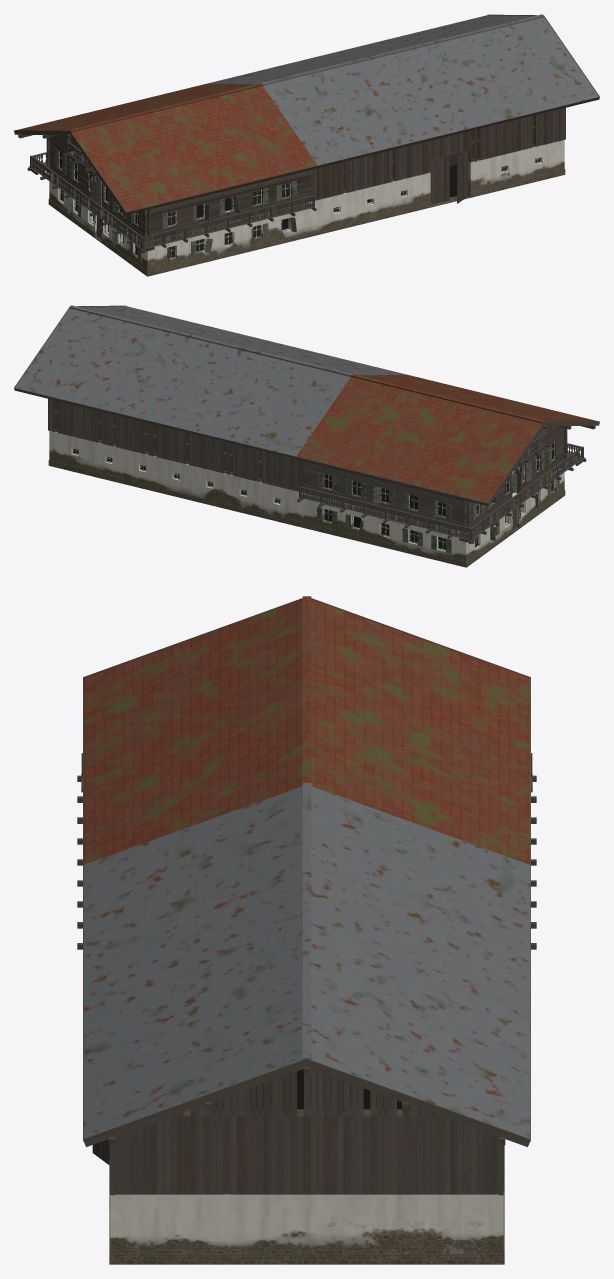
The model's file is hof-708.glb.
3 views of the same model, one above another, from view 1: azimuth 30°, elevation 25°; view 2: azimuth 150°, elevation 25°; view 3: azimuth 270°, elevation 25° (orthographic). The views are drawn at different scales.
Parts seen in each view (by area): view 1: blech, ziegel, holz_brett, putz, holz_block, stein, laeden, rahmen, glas, dunkel; view 2: blech, ziegel, holz_brett, putz, holz_block, stein, laeden, glas, rahmen; view 3: blech, ziegel, holz_brett, putz, holz_block, stein, dunkel.
Part boxes in pixels (x1,y1,x2,y2): blech: [206, 14, 598, 165]; ziegel: [16, 83, 317, 211]; holz_brett: [14, 14, 599, 248]; putz: [49, 140, 564, 270]; holz_block: [18, 107, 565, 252]; stein: [48, 169, 565, 276]; laeden: [54, 148, 296, 263]; rahmen: [59, 139, 541, 259]; glas: [60, 152, 540, 258]; dunkel: [67, 138, 456, 242]; blech: [15, 305, 407, 456]; ziegel: [296, 374, 597, 502]; holz_brett: [14, 305, 599, 539]; putz: [49, 431, 564, 561]; holz_block: [48, 398, 595, 543]; stein: [48, 460, 565, 567]; laeden: [317, 445, 559, 553]; glas: [73, 443, 553, 549]; rahmen: [72, 430, 554, 550]; blech: [83, 783, 530, 1138]; ziegel: [83, 596, 530, 864]; holz_brett: [83, 598, 530, 1194]; putz: [110, 1194, 503, 1253]; holz_block: [77, 753, 536, 1195]; stein: [109, 1145, 504, 1264]; dunkel: [197, 1069, 416, 1109].
Size of the model in its own units: 41.26 by 9.64 by 17.15.
Materials: 10 (8 with a texture image).
